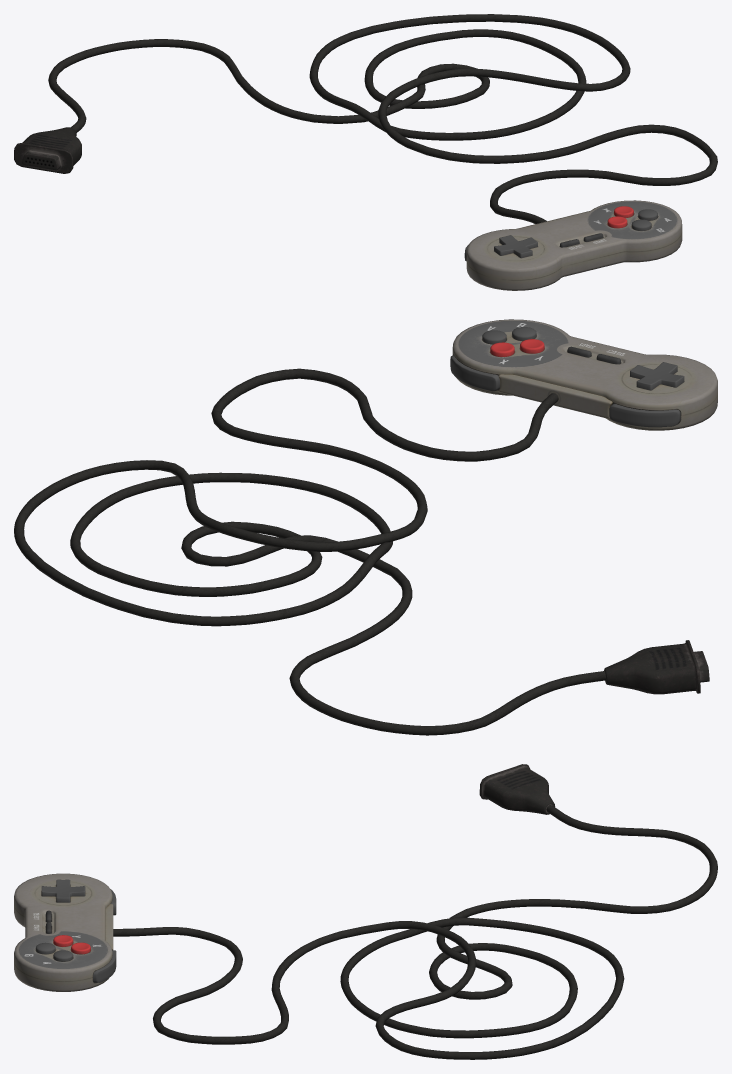
File: gamepad.glb
The picture shows the model from 3 angles, top to bottom: view 1: azimuth 30°, elevation 25°; view 2: azimuth 150°, elevation 25°; view 3: azimuth 270°, elevation 25°; orthographic projection. The views are drawn at different scales.
Visible parts, largest first — view 1: gamepad; view 2: gamepad; view 3: gamepad.
Part boxes in pixels (x1=…): gamepad: x1=14, y1=14, x2=717, y2=290; gamepad: x1=14, y1=319, x2=717, y2=735; gamepad: x1=14, y1=764, x2=717, y2=1059.
Bounding box in the file's own units: 0.4041 × 0.0189 × 0.435.
1 material, 1 textured.
